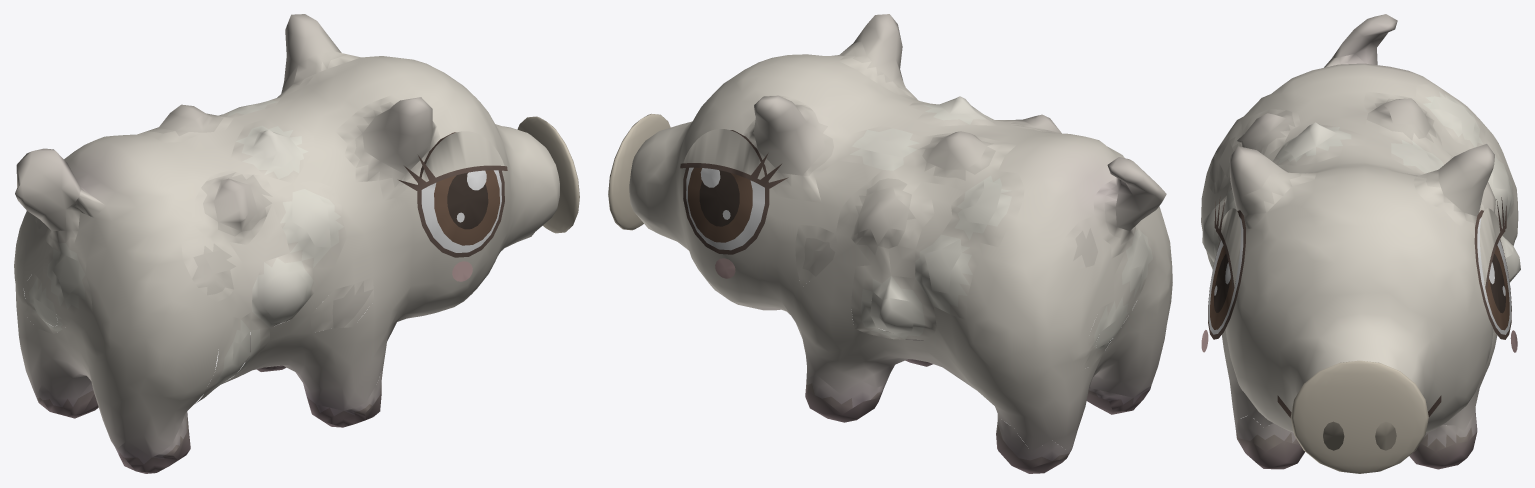
File: woolly_piglet.glb
3 views of the same model, side by side, from view 1: azimuth 30°, elevation 25°; view 2: azimuth 150°, elevation 25°; view 3: azimuth 270°, elevation 25° (orthographic). The views are drawn at different scales.
Visible parts, largest first — view 1: woolly_piglet; view 2: woolly_piglet; view 3: woolly_piglet.
Boxes of the visible parts, bbox=[...] form: woolly_piglet: bbox=[14, 14, 579, 473]; woolly_piglet: bbox=[608, 14, 1172, 473]; woolly_piglet: bbox=[1201, 14, 1520, 473].
Size of the model in its own units: 0.5462 by 0.3144 by 0.2661.
